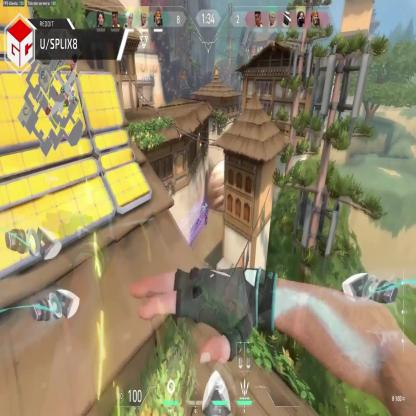enemy: (203, 203, 209, 224)
enemy_head: (205, 203, 207, 208)
